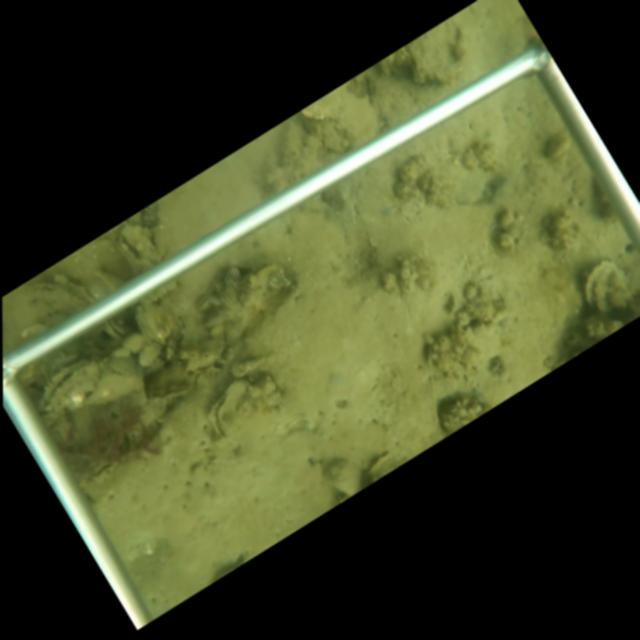Oyster-Closed: (583, 257, 636, 313), (31, 280, 94, 317), (136, 302, 176, 348), (193, 292, 213, 310)
Oyster-Open: (37, 360, 101, 412), (207, 378, 252, 443), (115, 223, 161, 269), (105, 317, 130, 339)
